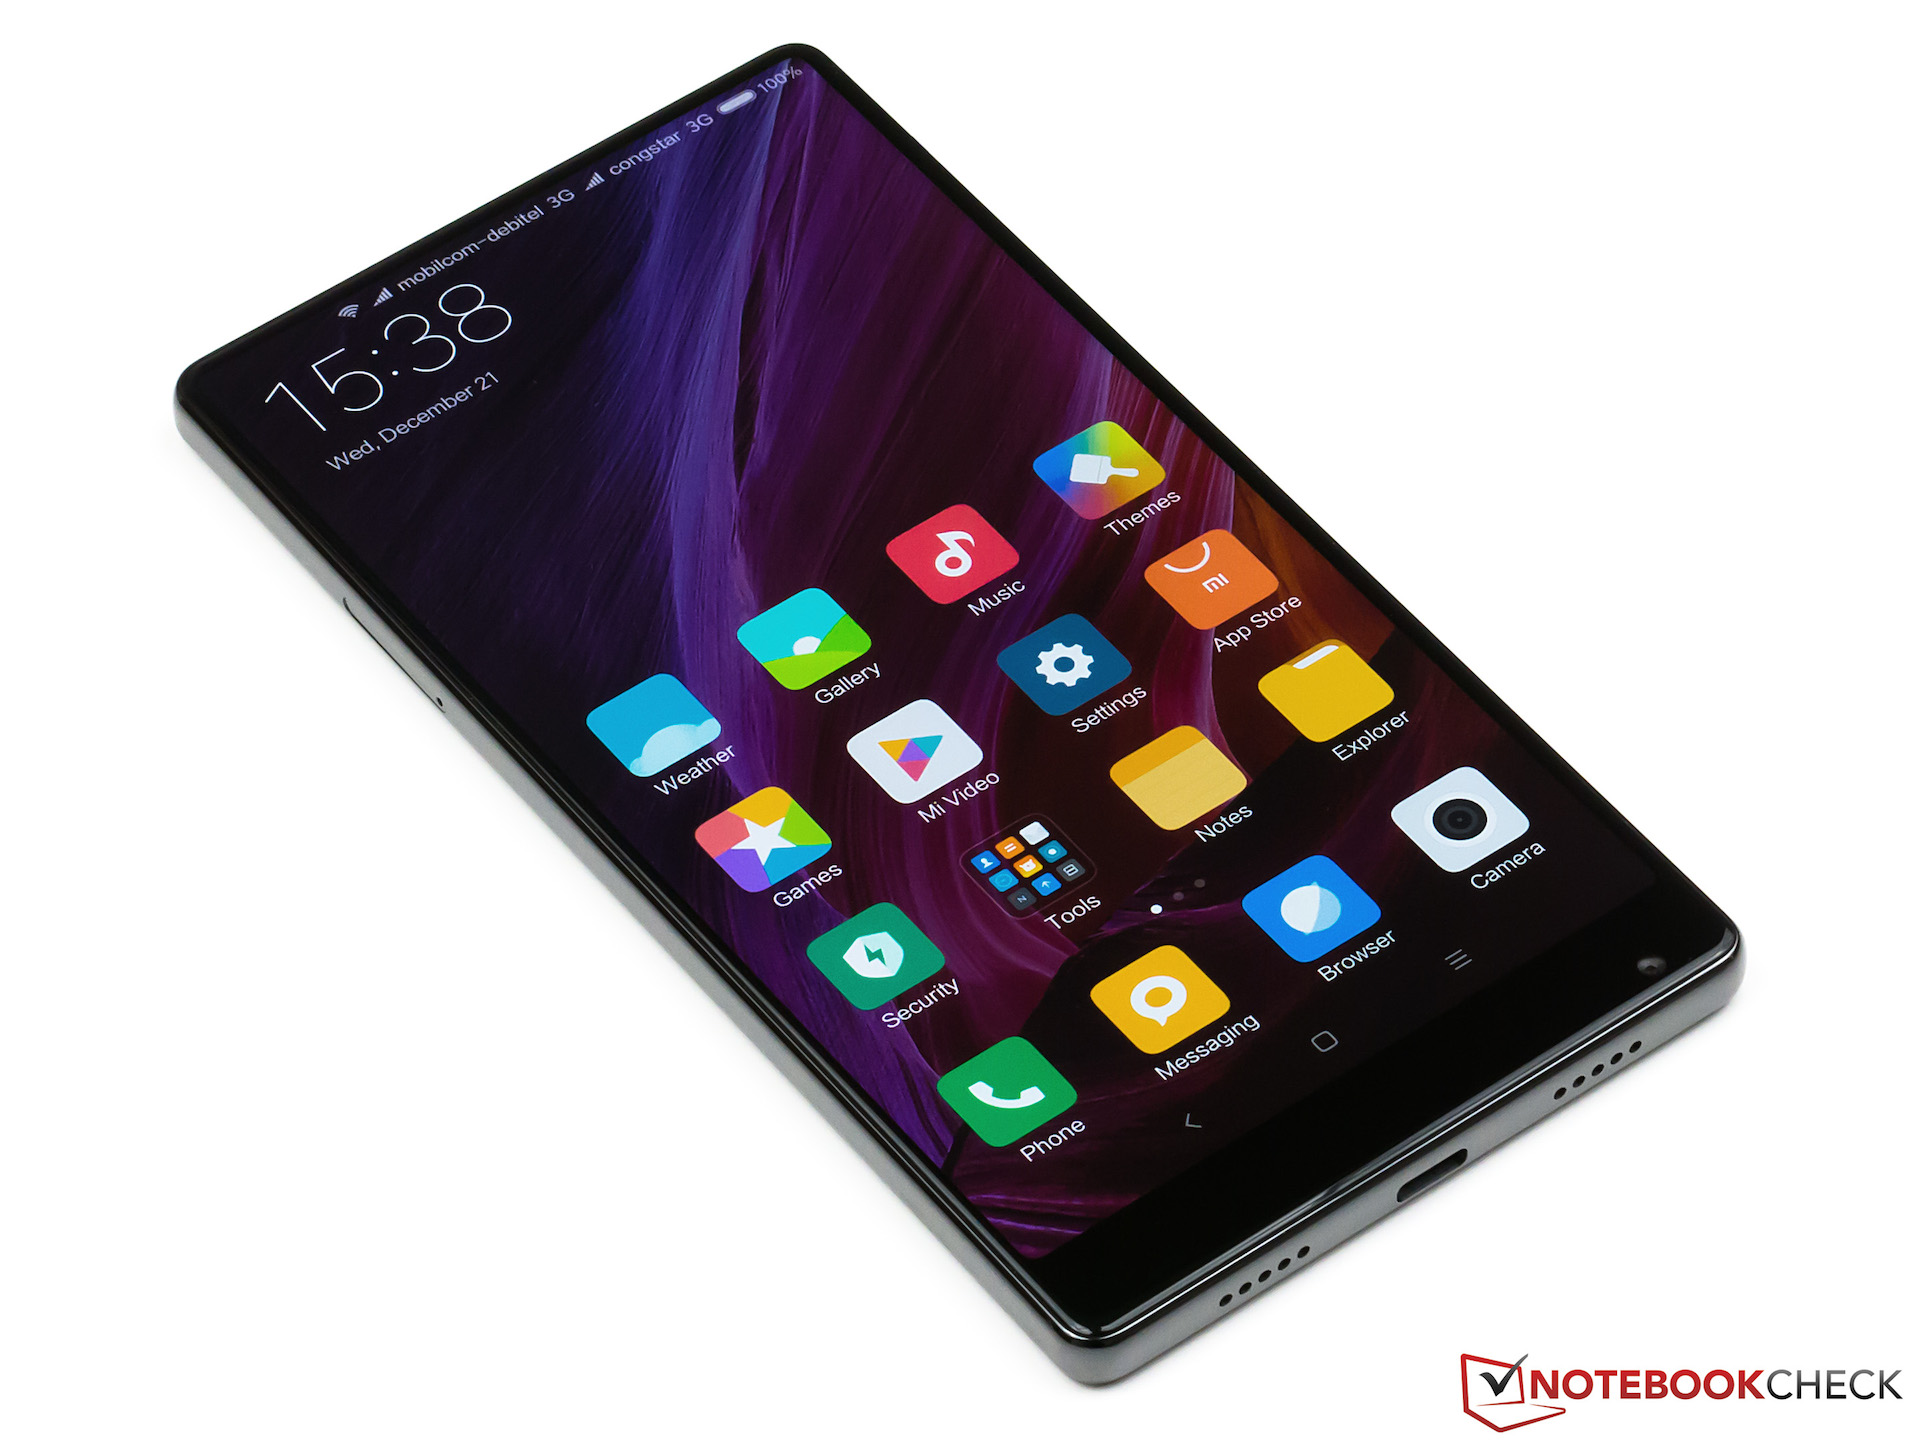smartphone: (174, 36, 1748, 1392)
